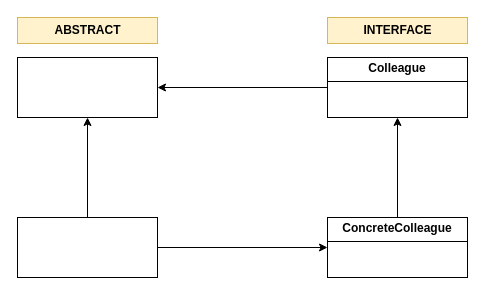
The diagram is 485 pixels wide and 295 high, and some of its shapes have lost their labels. Here are the shapes that lost their labels. From the top down, the centre of each, then its label:
At [87,87]: "Mediator".
At [87,247]: "ConcreteMediator".
